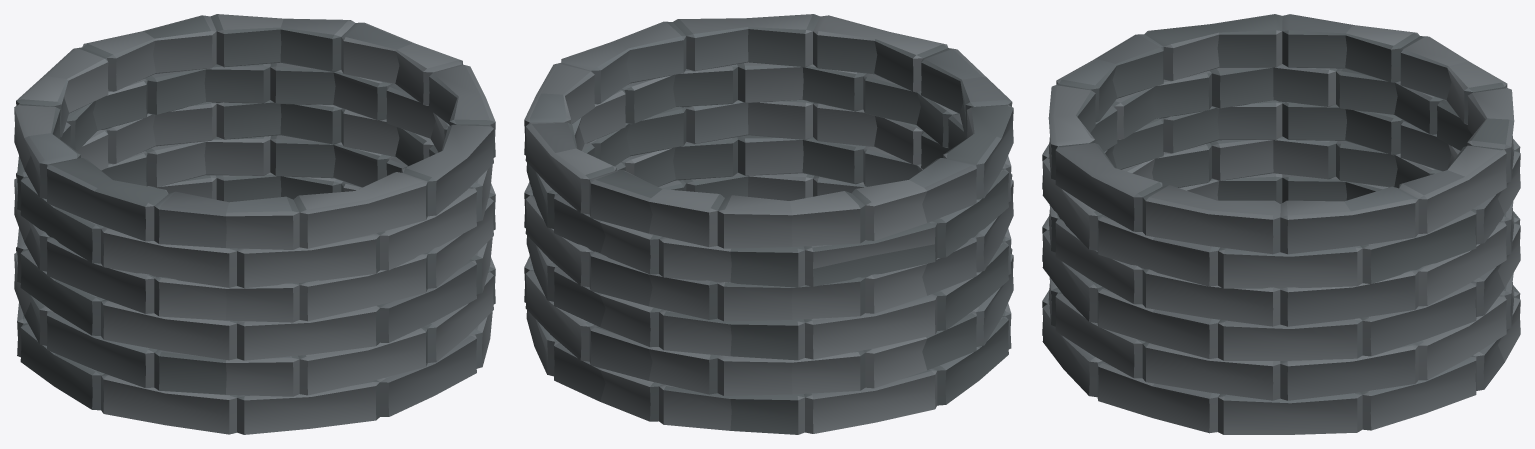
File: SM_Well.fbx
3 views of the same model, side by side, from view 1: azimuth 30°, elevation 25°; view 2: azimuth 150°, elevation 25°; view 3: azimuth 270°, elevation 25° (orthographic).
Visible parts, largest first — view 1: SM_Well; view 2: SM_Well; view 3: SM_Well.
Boxes of the visible parts, box(x1,y1,x2,y2) form: SM_Well: box(14, 14, 495, 434); SM_Well: box(524, 14, 1013, 434); SM_Well: box(1042, 14, 1520, 434).
Size of the model in its own units: 5.13 by 5.04 by 2.58.
